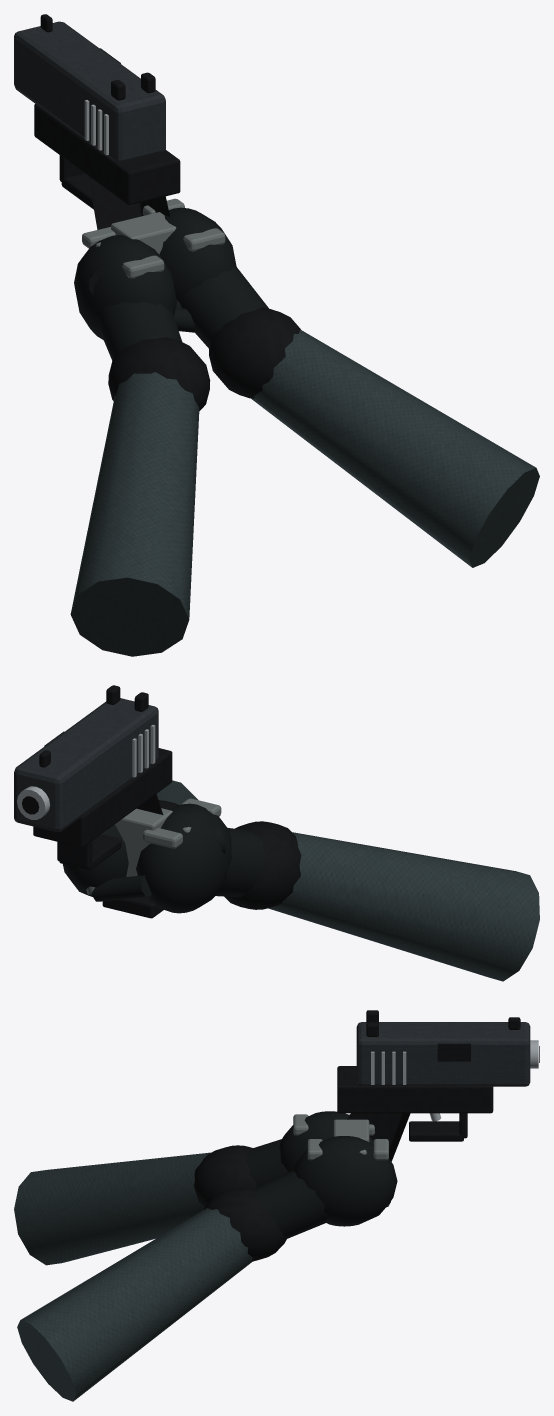
The model's file is pistol.glb.
The picture shows the model from 3 angles, top to bottom: view 1: azimuth 30°, elevation 25°; view 2: azimuth 150°, elevation 25°; view 3: azimuth 270°, elevation 25°; orthographic projection. The views are drawn at different scales.
Parts seen in each view (by area): view 1: rightHand_Slate woven sleeves, leftHand_Slate woven sleeves, body_Parkerized steel, leftHand_Charcoal gloves, body_Graphite polymer, rightHand_Charcoal gloves, rightHand_Graphite polymer, leftHand_Graphite polymer, body_Leather reinforcement, leftHand_Leather reinforcement, rightHand_Leather reinforcement, body_Machined edges; view 2: leftHand_Slate woven sleeves, body_Parkerized steel, leftHand_Charcoal gloves, body_Graphite polymer, leftHand_Graphite polymer, rightHand_Charcoal gloves, body_Leather reinforcement, body_Machined edges, leftHand_Leather reinforcement, magazine_Graphite polymer, rightHand_Slate woven sleeves; view 3: rightHand_Slate woven sleeves, leftHand_Slate woven sleeves, body_Parkerized steel, rightHand_Charcoal gloves, body_Graphite polymer, rightHand_Graphite polymer, leftHand_Charcoal gloves, leftHand_Graphite polymer, body_Machined edges, body_Leather reinforcement, rightHand_Leather reinforcement.
Part boxes in pixels (box(x1,y1,x2,y2)): rightHand_Slate woven sleeves: box(251, 329, 539, 567); leftHand_Slate woven sleeves: box(70, 372, 199, 656); body_Parkerized steel: box(14, 21, 165, 162); leftHand_Charcoal gloves: box(74, 235, 195, 360); body_Graphite polymer: box(34, 14, 180, 229); rightHand_Charcoal gloves: box(159, 207, 268, 348); rightHand_Graphite polymer: box(209, 307, 300, 398); leftHand_Graphite polymer: box(108, 337, 210, 410); body_Leather reinforcement: box(111, 212, 176, 254); leftHand_Leather reinforcement: box(82, 226, 164, 278); rightHand_Leather reinforcement: box(143, 198, 225, 251); body_Machined edges: box(84, 100, 108, 155); leftHand_Slate woven sleeves: box(268, 832, 539, 981); body_Parkerized steel: box(14, 698, 158, 831); leftHand_Charcoal gloves: box(136, 803, 265, 913); body_Graphite polymer: box(22, 685, 172, 870); leftHand_Graphite polymer: box(224, 821, 301, 909); rightHand_Charcoal gloves: box(63, 824, 151, 901); body_Leather reinforcement: box(115, 808, 172, 876); body_Machined edges: box(17, 725, 155, 819); leftHand_Leather reinforcement: box(143, 798, 221, 848); magazine_Graphite polymer: box(102, 897, 163, 918); rightHand_Slate woven sleeves: box(156, 780, 198, 804); rightHand_Slate woven sleeves: box(17, 1208, 252, 1401); leftHand_Slate woven sleeves: box(14, 1152, 210, 1265); body_Parkerized steel: box(356, 1022, 530, 1086); rightHand_Charcoal gloves: box(253, 1136, 397, 1238); body_Graphite polymer: box(337, 1010, 539, 1161); rightHand_Graphite polymer: box(204, 1187, 286, 1261); leftHand_Charcoal gloves: box(246, 1111, 373, 1187); leftHand_Graphite polymer: box(194, 1145, 256, 1206); body_Machined edges: box(371, 1040, 538, 1121); body_Leather reinforcement: box(333, 1119, 369, 1141); rightHand_Leather reinforcement: box(307, 1139, 388, 1206).
Bounding box in the file's own units: 0.616 × 0.5013 × 0.7422.
Materials: 6 (4 with a texture image).
